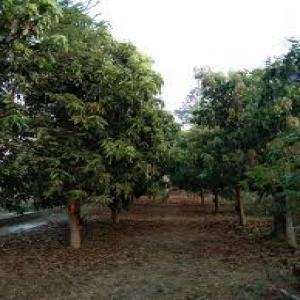Tree: (5, 1, 179, 247), (166, 47, 298, 246)
